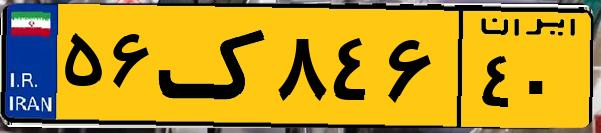0: (525, 38, 570, 115)
4: (330, 28, 385, 110), (475, 38, 525, 113)
5: (57, 26, 110, 100)
6: (385, 28, 445, 110), (110, 28, 158, 98)
8: (270, 28, 330, 110)
ک: (158, 12, 270, 120)
